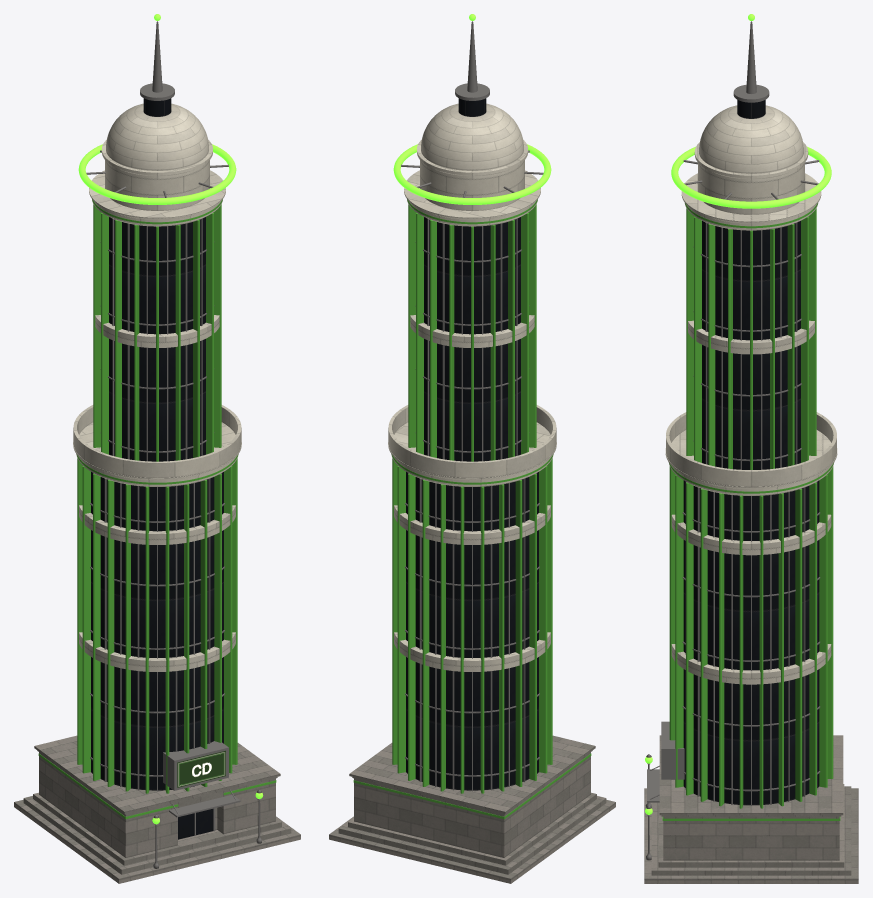
Rendered from cancer-dao.glb.
3 views of the same model, side by side, from view 1: azimuth 30°, elevation 25°; view 2: azimuth 150°, elevation 25°; view 3: azimuth 270°, elevation 25° (orthographic).
Parts seen in each view (by area): view 1: Landmark · Cancer DAO; view 2: Landmark · Cancer DAO; view 3: Landmark · Cancer DAO.
Part boxes in pixels (bbox=[...]): Landmark · Cancer DAO: bbox=[14, 14, 300, 883]; Landmark · Cancer DAO: bbox=[329, 14, 615, 883]; Landmark · Cancer DAO: bbox=[644, 14, 858, 883].
Bounding box in the file's own units: 12 × 51 × 12.
7 materials, 4 textured.
